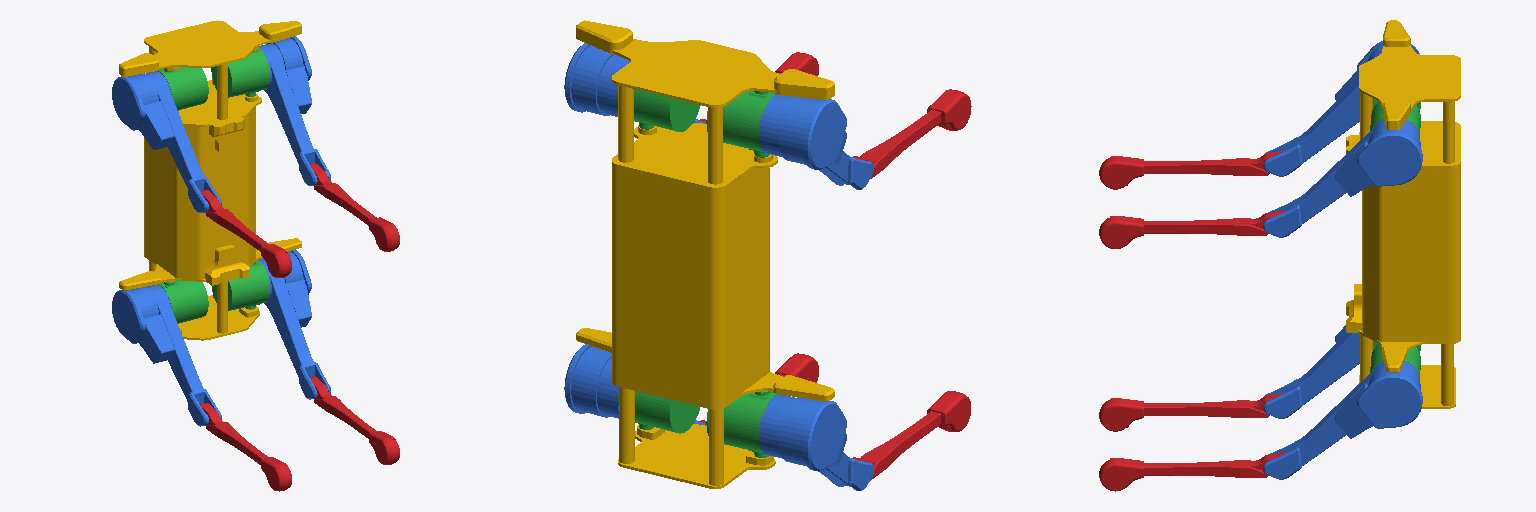
The robot description file, URDF, robot "plane":
<?xml version="1.0" ?>
<robot name="plane">
  <link name="chassis">
  <contact>
      <lateral_friction value="1"/>
  </contact>
    <inertial>
      <origin rpy="0 0 0" xyz="0 0.03 0.043794"/>
       <mass value="13.715"/>
       <inertia ixx="0" ixy="0" ixz="0" iyy="0" iyz="0" izz="0"/>
    </inertial>
    <visual>
      <origin rpy="0 0 0" xyz="0 0 0.043794"/>
      <geometry>
      	
				<mesh filename="chassis.obj" scale="1 1 1"/>
      </geometry>
       <material name="yellow">
        <color rgba="0.95 0.75 0.05 1"/>
      </material>
    </visual>
    <collision>
      <origin rpy="-1.57 0 0" xyz="0 0 0.043794"/>
      <geometry>
      	
				<mesh filename="chassis_vhacd_mod.obj" scale="1 1 1"/>
      </geometry>
    </collision>
  </link>
  
 
	
	 <link name="FR_hip_motor">
  <contact>
      <lateral_friction value="1"/>
  </contact>
    <inertial>
       <origin rpy="0 0 0" xyz="0.02 0 0"/>
       <mass value="0.241"/>
       <inertia ixx="0" ixy="0" ixz="0" iyy="0" iyz="0" izz="0"/>
    </inertial>
	
	  <visual>
      <origin rpy="0 0 0" xyz="0 0 0"/>
      <geometry>
				<mesh filename="hip_motor_mirror.obj" scale="1 1 1"/>
      </geometry>
       <material name="green"/>
    </visual>
    
    <collision>
      <origin rpy="0 0 0" xyz="0 0 0"/>
      <geometry>
				<mesh filename="hip_motor_mirror.obj" scale="1 1 1"/>
      </geometry>
    </collision>
    </link>
    
    <joint name="FR_hip_motor_2_chassis_joint" type="continuous">
		<axis xyz="0 0 -1"/>
		<parent link="chassis"/>
		<child link="FR_hip_motor"/>
		<origin rpy="0 0 0" xyz="-0.0817145 0 0.242889"/>
		<limit effort="100" velocity="100"/>
		<joint_properties damping=".0" friction=".0"/>
	</joint>
	
     <link name="FR_upper_leg">
  <contact>
      <lateral_friction value="1"/>
  </contact>
    <inertial>
     <origin rpy="0 0 0" xyz="0 -0.04 -0.04"/>
       <mass value="1.527"/>
       <inertia ixx="0" ixy="0" ixz="0" iyy="0" iyz="0" izz="0"/>
    </inertial>
       <visual>
      <origin rpy="0 0 0" xyz="0 0 0"/>
      <geometry>
				<mesh filename="upper_leg_mirror.obj" scale="1 1 1"/>
      </geometry>
       <material name="blue"/>
    </visual>
    
    <collision>
      <origin rpy="0 0 0" xyz="0 0 0"/>
      <geometry>
				<mesh filename="upper_leg_right_vhacd.obj" scale="1 1 1"/>
      </geometry>
    </collision>
    
    </link>
    
    <joint name="FR_upper_leg_2_hip_motor_joint" type="continuous">
		<axis xyz="1 0 0"/>
		<parent link="FR_hip_motor"/>
		<child link="FR_upper_leg"/>
		<origin rpy="0 0 0" xyz="-0.053565 0 0"/>
		<limit effort="100" velocity="100"/>
		<joint_properties damping=".0" friction=".0"/>
	</joint>
	
     <link name="FR_lower_leg">
  <contact>
      <lateral_friction value="1"/>
  </contact>
    <inertial>
      <origin rpy="0 0 0" xyz="0 -0.16 -0.02"/>
       <mass value="0.241"/>
       <inertia ixx="0" ixy="0" ixz="0" iyy="0" iyz="0" izz="0"/>
    </inertial>
       <visual>
      <origin rpy="0 1.57079 0" xyz="0 0.0 0"/>
      <geometry>
				<mesh filename="lower_leg_3.obj" scale="1 1 1"/>
      </geometry>
       <material name="red"/>
    </visual>
    
    <collision>
      <origin rpy="0 1.57079 0" xyz="0 0.0 0"/>
      <geometry>
				<mesh filename="lower_leg_3.obj" scale="1 1 1"/>
      </geometry>
    </collision>
    
    </link>
    
    <joint name="FR_lower_leg_2_upper_leg_joint" type="continuous">
		<axis xyz="1 0 0"/>
		<parent link="FR_upper_leg"/>
		<child link="FR_lower_leg"/>
														
		<origin rpy="0 0 0" xyz="0.02069  -0.20833  -0.1422"/>
		<limit effort="100" velocity="100"/>
		<joint_properties damping=".0" friction=".0"/>
	</joint>
	
	
	 <link name="FL_hip_motor">
  <contact>
      <lateral_friction value="1"/>
  </contact>
    <inertial>
     <origin rpy="0 0 0" xyz="-.02 0 0"/>
       <mass value="1.095"/>
       <inertia ixx="0" ixy="0" ixz="0" iyy="0" iyz="0" izz="0"/>
    </inertial>
    <visual>
      <origin rpy="0 0 0" xyz="0 0 0"/>
      <geometry>
				<mesh filename="hip_motor.obj" scale="1 1 1"/>
      </geometry>
       <material name="green">
        <color rgba="0.23 0.73 0.33 1"/>
      </material>
    </visual>
    
    <collision>
      <origin rpy="0 0 0" xyz="0 0 0"/>
      <geometry>
				<mesh filename="hip_motor.obj" scale="1 1 1"/>
      </geometry>
    </collision>
    
      </link>
  
   <joint name="FL_hip_motor_2_chassis_joint" type="continuous">
		<axis xyz="0 0 1"/>
		<parent link="chassis"/>
		<child link="FL_hip_motor"/>
		<origin rpy="0 0 0" xyz="0.0817145 0 0.242889"/>
		<limit effort="100" velocity="100"/>
		<joint_properties damping=".0" friction=".0"/>
	</joint>
	
  <link name="FL_upper_leg">
  <contact>
      <lateral_friction value="1"/>
  </contact>
    <inertial>
       <origin rpy="0 0 0" xyz="0 -0.04 -0.04"/>
       <mass value="1.527"/>
       <inertia ixx="0" ixy="0" ixz="0" iyy="0" iyz="0" izz="0"/>
    </inertial>
     <visual>
      <origin rpy="0 0 0" xyz="0 0 0"/>
      <geometry>
      	
				<mesh filename="upper_leg.obj" scale="1 1 1"/>
      </geometry>
       <material name="blue">
        <color rgba="0.28 0.52 0.93 1"/>
      </material>
    </visual>
    
     <collision>
      <origin rpy="0 0 0" xyz="0 0 0"/>
      <geometry>
				<mesh filename="upper_leg_left_vhacd.obj" scale="1 1 1"/>
      </geometry>
    </collision>
    
    </link>
  
  
  <joint name="FL_upper_leg_2_hip_motor_joint" type="continuous">
		<axis xyz="1 0 0"/>
		<parent link="FL_hip_motor"/>
		<child link="FL_upper_leg"/>
		<origin rpy="0 0 0" xyz="0.055855  0 0"/>
		<limit effort="100" velocity="100"/>
		<joint_properties damping=".0" friction=".0"/>
	</joint>
	 
  
  <link name="FL_lower_leg">
  <contact>
      <lateral_friction value="1"/>
  </contact>
    <inertial>
      <origin rpy="0 0 0" xyz="0 -0.16 -0.02"/>
       <mass value="0.241"/>
       <inertia ixx="0" ixy="0" ixz="0" iyy="0" iyz="0" izz="0"/>
    </inertial>
   <visual>
      <origin rpy="0 1.57079 0" xyz="0 0 0"/>
      <geometry>
				<mesh filename="lower_leg_3.obj" scale="1 1 1"/>
      </geometry>
       <material name="red">
        <color rgba="0.85 0.19 0.21 1"/>
      </material>
    </visual>
    
     <collision>
      <origin rpy="0 1.57079 0" xyz="0 0 0"/>
      <geometry>
				<mesh filename="lower_leg_3.obj" scale="1 1 1"/>
      </geometry>
    </collision>
    
    </link>
    
  <joint name="FL_lower_leg_2_upper_leg_joint" type="continuous">
		<axis xyz="1 0 0"/>
		<parent link="FL_upper_leg"/>
		<child link="FL_lower_leg"/>
		<origin rpy="0 0 0" xyz="-0.02069  -0.20833  -0.1422"/>
		<limit effort="100" velocity="100"/>
		<joint_properties damping=".0" friction=".0"/>
	</joint>
	
	
	
	
	
	
	 <link name="RR_hip_motor">
  <contact>
      <lateral_friction value="1"/>
  </contact>
    <inertial>
      <origin rpy="0 0 0" xyz="0.02 0 0"/>
       <mass value="0.241"/>
       <inertia ixx="0" ixy="0" ixz="0" iyy="0" iyz="0" izz="0"/>
    </inertial>
	
	  <visual>
      <origin rpy="0 0 0" xyz="0 0 0"/>
      <geometry>
				<mesh filename="hip_motor_mirror.obj" scale="1 1 1"/>
      </geometry>
       <material name="green"/>
    </visual>
    
     <collision>
      <origin rpy="0 0 0" xyz="0 0 0"/>
      <geometry>
				<mesh filename="hip_motor_mirror.obj" scale="1 1 1"/>
      </geometry>
    </collision>
    
    </link>
    
    <joint name="RR_hip_motor_2_chassis_joint" type="continuous">
		<axis xyz="0 0 -1"/>
		<parent link="chassis"/>
		<child link="RR_hip_motor"/>
		<origin rpy="0 0 0" xyz="-0.0817145 0 -0.194401"/>
		<limit effort="100" velocity="100"/>
		<joint_properties damping=".0" friction=".0"/>
	</joint>
	
     <link name="RR_upper_leg">
  <contact>
      <lateral_friction value="1"/>
  </contact>
    <inertial>
     <origin rpy="0 0 0" xyz="0 -0.04 -0.04"/>
       <mass value="1.527"/>
       <inertia ixx="0" ixy="0" ixz="0" iyy="0" iyz="0" izz="0"/>
    </inertial>
       <visual>
      <origin rpy="0 0 0" xyz="0 0 0"/>
      <geometry>
				<mesh filename="upper_leg_mirror.obj" scale="1 1 1"/>
      </geometry>
       <material name="blue"/>
    </visual>
    
    <collision>
      <origin rpy="0 0 0" xyz="0 0 0"/>
      <geometry>
				<mesh filename="upper_leg_right_vhacd.obj" scale="1 1 1"/>
      </geometry>
    </collision>
    
    </link>
    
    <joint name="RR_upper_leg_2_hip_motor_joint" type="continuous">
		<axis xyz="1 0 0"/>
		<parent link="RR_hip_motor"/>
		<child link="RR_upper_leg"/>
		<origin rpy="0 0 0" xyz="-0.053565 0 0"/>
		<limit effort="100" velocity="100"/>
		<joint_properties damping=".0" friction=".0"/>
	</joint>
	
     <link name="RR_lower_leg">
  <contact>
      <lateral_friction value="1"/>
  </contact>
    <inertial>
      <origin rpy="0 0 0" xyz="0 -0.16 -0.02"/>
       <mass value="0.241"/>
       <inertia ixx="0" ixy="0" ixz="0" iyy="0" iyz="0" izz="0"/>
    </inertial>
       <visual>
      <origin rpy="0 1.57079 0" xyz="0 0 0"/>
      <geometry>
				<mesh filename="lower_leg_3.obj" scale="1 1 1"/>
      </geometry>
       <material name="red"/>
    </visual>
    
     <collision>
      <origin rpy="0 1.57079 0" xyz="0 0 0"/>
      <geometry>
				<mesh filename="lower_leg_3.obj" scale="1 1 1"/>
      </geometry>
    </collision>
    
    </link>
    
    <joint name="RR_lower_leg_2_upper_leg_joint" type="continuous">
		<axis xyz="1 0 0"/>
		<parent link="RR_upper_leg"/>
		<child link="RR_lower_leg"/>
		<origin rpy="0 0 0" xyz="0.02069  -0.20833  -0.1422"/>
		<limit effort="100" velocity="100"/>
		<joint_properties damping=".0" friction=".0"/>
	</joint>
	
	
	 <link name="RL_hip_motor">
  <contact>
      <lateral_friction value="1"/>
  </contact>
    <inertial>
      <origin rpy="0 0 0" xyz="-.02 0 0"/>
       <mass value="1.095"/>
       <inertia ixx="0" ixy="0" ixz="0" iyy="0" iyz="0" izz="0"/>
    </inertial>
    <visual>
      <origin rpy="0 0 0" xyz="0 0 0"/>
      <geometry>
				<mesh filename="hip_motor.obj" scale="1 1 1"/>
      </geometry>
       <material name="green"/>
    </visual>
    
    <collision>
      <origin rpy="0 0 0" xyz="0 0 0"/>
      <geometry>
				<mesh filename="hip_motor.obj" scale="1 1 1"/>
      </geometry>
    </collision>
    
      </link>
  
   <joint name="RL_hip_motor_2_chassis_joint" type="continuous">
		<axis xyz="0 0 1"/>
		<parent link="chassis"/>
		<child link="RL_hip_motor"/>
												
		<origin rpy="0 0 0" xyz="0.0817145 0 -0.194401"/>
		<limit effort="100" velocity="100"/>
		<joint_properties damping=".0" friction=".0"/>
	</joint>
	
  <link name="RL_upper_leg">
  <contact>
      <lateral_friction value="1"/>
  </contact>
    <inertial>
      <origin rpy="0 0 0" xyz="0 -0.04 -0.04"/>
       <mass value="1.527"/>
       <inertia ixx="0" ixy="0" ixz="0" iyy="0" iyz="0" izz="0"/>
    </inertial>
     <visual>
      <origin rpy="0 0 0" xyz="0 0 0"/>
      <geometry>
				<mesh filename="upper_leg.obj" scale="1 1 1"/>
      </geometry>
       <material name="blue"/>
    </visual>
    
    <collision>
      <origin rpy="0 0 0" xyz="0 0 0"/>
      <geometry>
				<mesh filename="upper_leg_left_vhacd.obj" scale="1 1 1"/>
      </geometry>
    </collision>
    
    </link>
  
  
  <joint name="RL_upper_leg_2_hip_motor_joint" type="continuous">
		<axis xyz="1 0 0"/>
		<parent link="RL_hip_motor"/>
		<child link="RL_upper_leg"/>
		<origin rpy="0 0 0" xyz="0.055855  0 0"/>
		<limit effort="100" velocity="100"/>
		<joint_properties damping=".0" friction=".0"/>
	</joint>
	 
  
  <link name="RL_lower_leg">
  <contact>
      <lateral_friction value="1"/>
  </contact>
    <inertial>
      <origin rpy="0 0 0" xyz="0 -0.16 -0.02"/>
       <mass value="0.241"/>
       <inertia ixx="0" ixy="0" ixz="0" iyy="0" iyz="0" izz="0"/>
    </inertial>
   <visual>
      <origin rpy="0 1.57079 0" xyz="0 0 0"/>
      <geometry>
				<mesh filename="lower_leg_3.obj" scale="1 1 1"/>
      </geometry>
       <material name="red"/>
    </visual>
    
    <collision>
      <origin rpy="0 1.57079 0" xyz="0 0 0"/>
      <geometry>
				<mesh filename="lower_leg_3.obj" scale="1 1 1"/>
      </geometry>
    </collision>
    
    </link>
    
  <joint name="RL_lower_leg_2_upper_leg_joint" type="continuous">
		<axis xyz="1 0 0"/>
		<parent link="RL_upper_leg"/>
		<child link="RL_lower_leg"/>
		<origin rpy="0 0 0" xyz="-0.02069  -0.20833  -0.1422"/>
		<limit effort="100" velocity="100"/>
		<joint_properties damping=".0" friction=".0"/>
	</joint>
	
	
	
</robot>

--- What the picture shows (computed from the rendered views, not written in the file) ---
The picture shows the robot from 3 angles, left to right: view 1: azimuth 30°, elevation 25°; view 2: azimuth 150°, elevation 25°; view 3: azimuth 270°, elevation 25°; orthographic projection.
Robot: plane — 13 links, 12 joints (12 continuous); root link chassis; default pose: all joints at 0.
Visible links, largest first — view 1: chassis, FR_upper_leg, RR_upper_leg, FL_upper_leg, RL_upper_leg, RR_lower_leg, FR_lower_leg, FL_lower_leg, RL_lower_leg, FL_hip_motor, RL_hip_motor, RR_hip_motor (+1 smaller); view 2: chassis, RR_upper_leg, FR_upper_leg, FL_upper_leg, RL_upper_leg, FR_lower_leg, RR_lower_leg, FR_hip_motor, RR_hip_motor, FL_hip_motor, RL_hip_motor, RL_lower_leg (+1 smaller); view 3: chassis, RL_upper_leg, FL_upper_leg, FR_upper_leg, RR_upper_leg, FL_lower_leg, RL_lower_leg, RR_lower_leg, FR_lower_leg.
Link boxes in pixels (x1,y1,x2,y2): chassis: (119,20,301,340); FR_upper_leg: (112,71,221,212); RR_upper_leg: (112,285,221,426); FL_upper_leg: (259,36,330,185); RL_upper_leg: (258,250,330,399); RR_lower_leg: (200,403,291,491); FR_lower_leg: (200,189,291,277); FL_lower_leg: (310,163,399,251); RL_lower_leg: (310,376,399,464); FL_hip_motor: (211,48,269,97); RL_hip_motor: (212,261,269,310); RR_hip_motor: (159,280,208,323); chassis: (576,20,834,488); RR_upper_leg: (759,394,873,490); FR_upper_leg: (759,94,873,189); FL_upper_leg: (564,43,705,123); RL_upper_leg: (564,344,706,425); FR_lower_leg: (853,89,971,178); RR_lower_leg: (853,391,970,480); FR_hip_motor: (706,91,775,157); RR_hip_motor: (706,391,777,457); FL_hip_motor: (634,89,700,131); RL_hip_motor: (618,391,699,433); RL_lower_leg: (699,353,818,423); chassis: (1346,20,1460,408); RL_upper_leg: (1263,361,1422,479); FL_upper_leg: (1263,119,1422,237); FR_upper_leg: (1263,41,1419,176); RR_upper_leg: (1263,325,1359,418); FL_lower_leg: (1099,210,1286,248); RL_lower_leg: (1099,452,1286,491); RR_lower_leg: (1099,393,1283,431); FR_lower_leg: (1099,151,1283,189).
Bounding box of the posed robot: 0.386 × 0.5921 × 0.7047 m (x, y, z).
13 mesh visuals loaded from 6 distinct referenced files (6 OBJ).